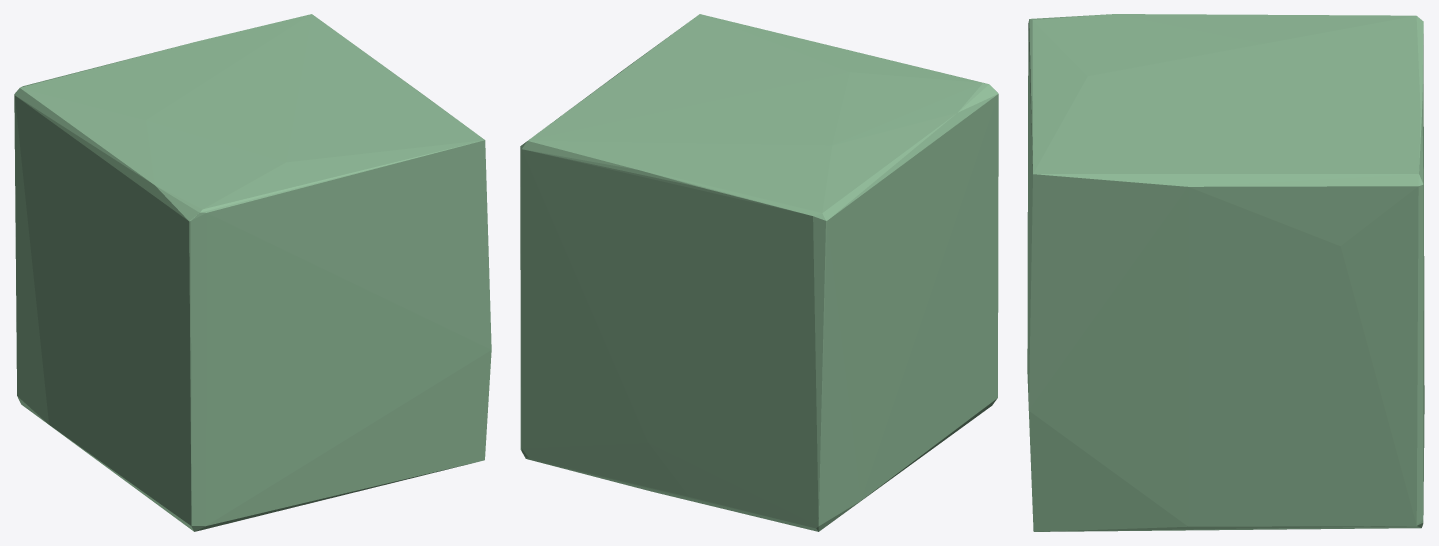
3 renders of one model, left to right at view 1: azimuth 30°, elevation 25°; view 2: azimuth 150°, elevation 25°; view 3: azimuth 270°, elevation 25°, orthographic. The views are drawn at different scales.
Parts seen in each view (by area): view 1: geometry_0; view 2: geometry_0; view 3: geometry_0.
Part boxes in pixels (left/top/right/bottom): geometry_0: left=14, top=14, right=491, bottom=531; geometry_0: left=520, top=14, right=998, bottom=531; geometry_0: left=1027, top=14, right=1424, bottom=531.
Size of the model in its own units: 0.4736 by 0.4755 by 0.4733.
